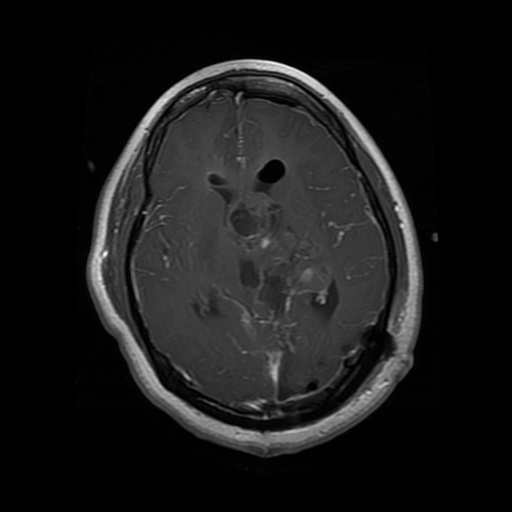glioma: (224, 195, 338, 301)
